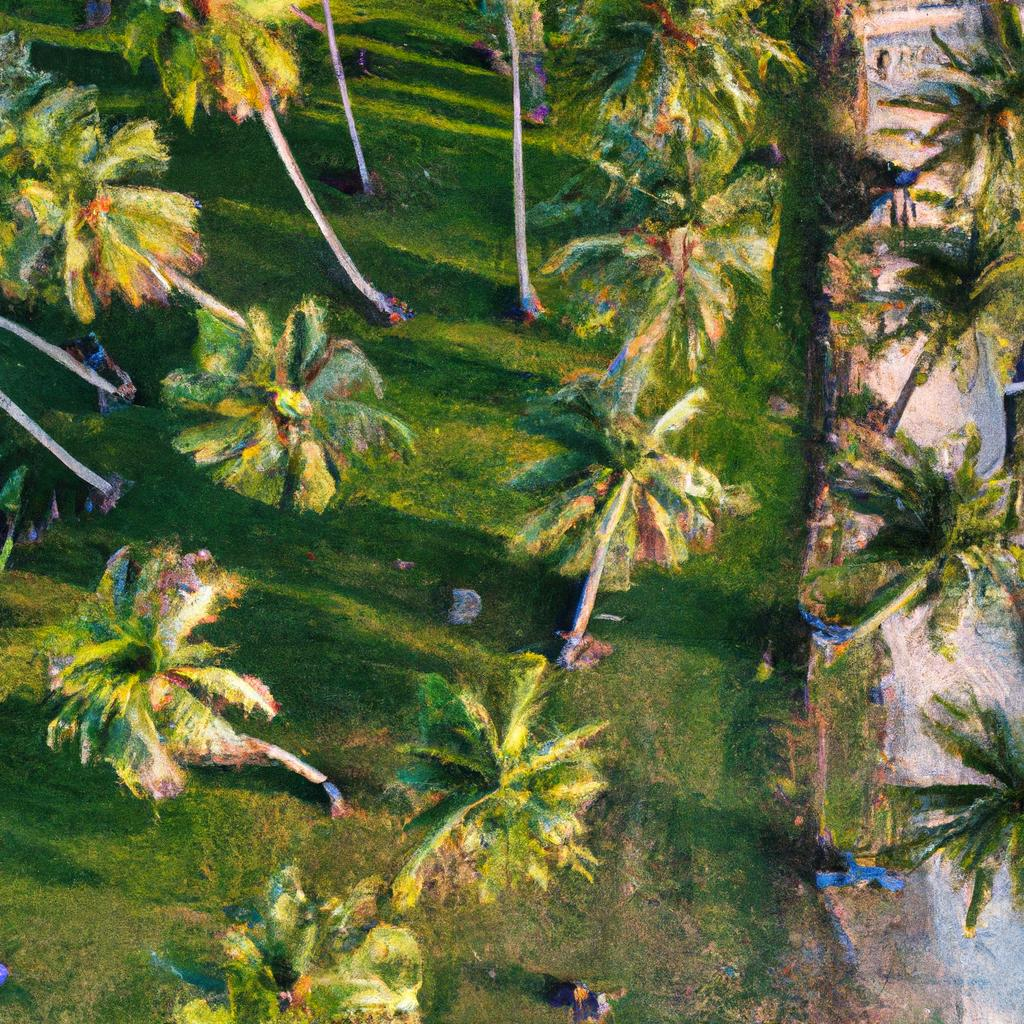coconut_tree: (32, 532, 352, 821), (482, 121, 814, 350), (500, 337, 751, 639), (370, 640, 635, 912), (149, 294, 428, 531)
